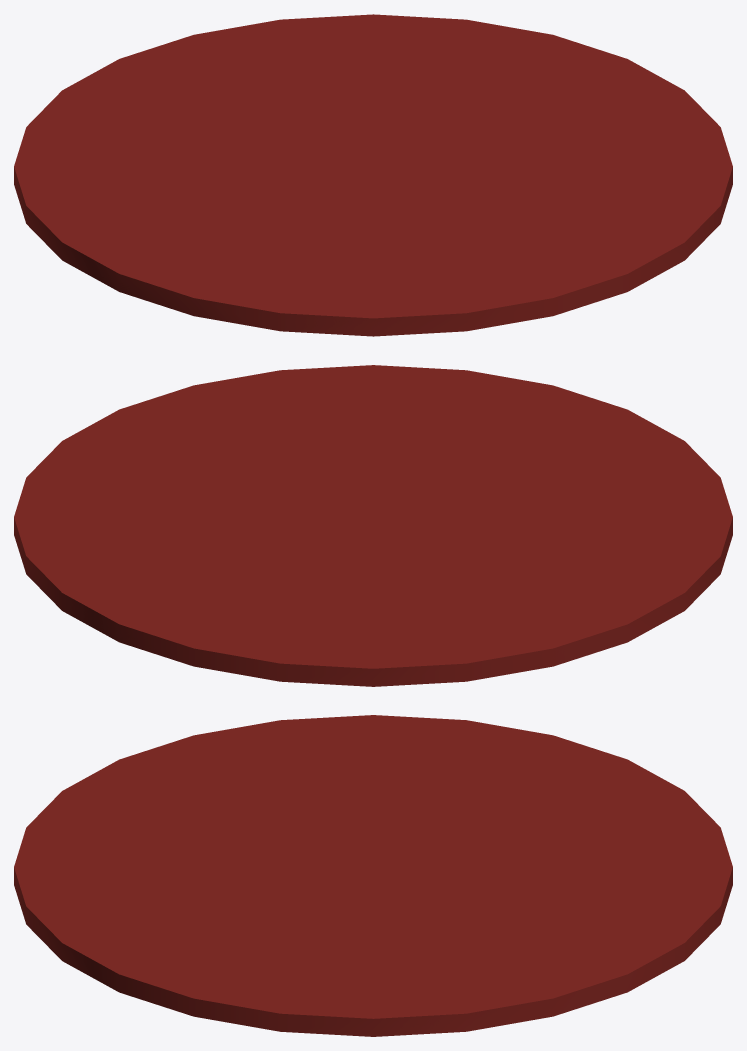
File: traffic_sign_primitive_3.dae
3 views of the same model, one above another, from view 1: azimuth 30°, elevation 25°; view 2: azimuth 150°, elevation 25°; view 3: azimuth 270°, elevation 25° (orthographic).
Parts seen in each view (by area): view 1: coords_ME_ID3_MA___auto_5; view 2: coords_ME_ID3_MA___auto_5; view 3: coords_ME_ID3_MA___auto_5.
Boxes of the visible parts, <box> form: coords_ME_ID3_MA___auto_5: <box>14,14,732,336</box>; coords_ME_ID3_MA___auto_5: <box>14,365,732,686</box>; coords_ME_ID3_MA___auto_5: <box>14,715,732,1036</box>.
Bounding box in the file's own units: 5.89 × 0.165 × 5.89.
